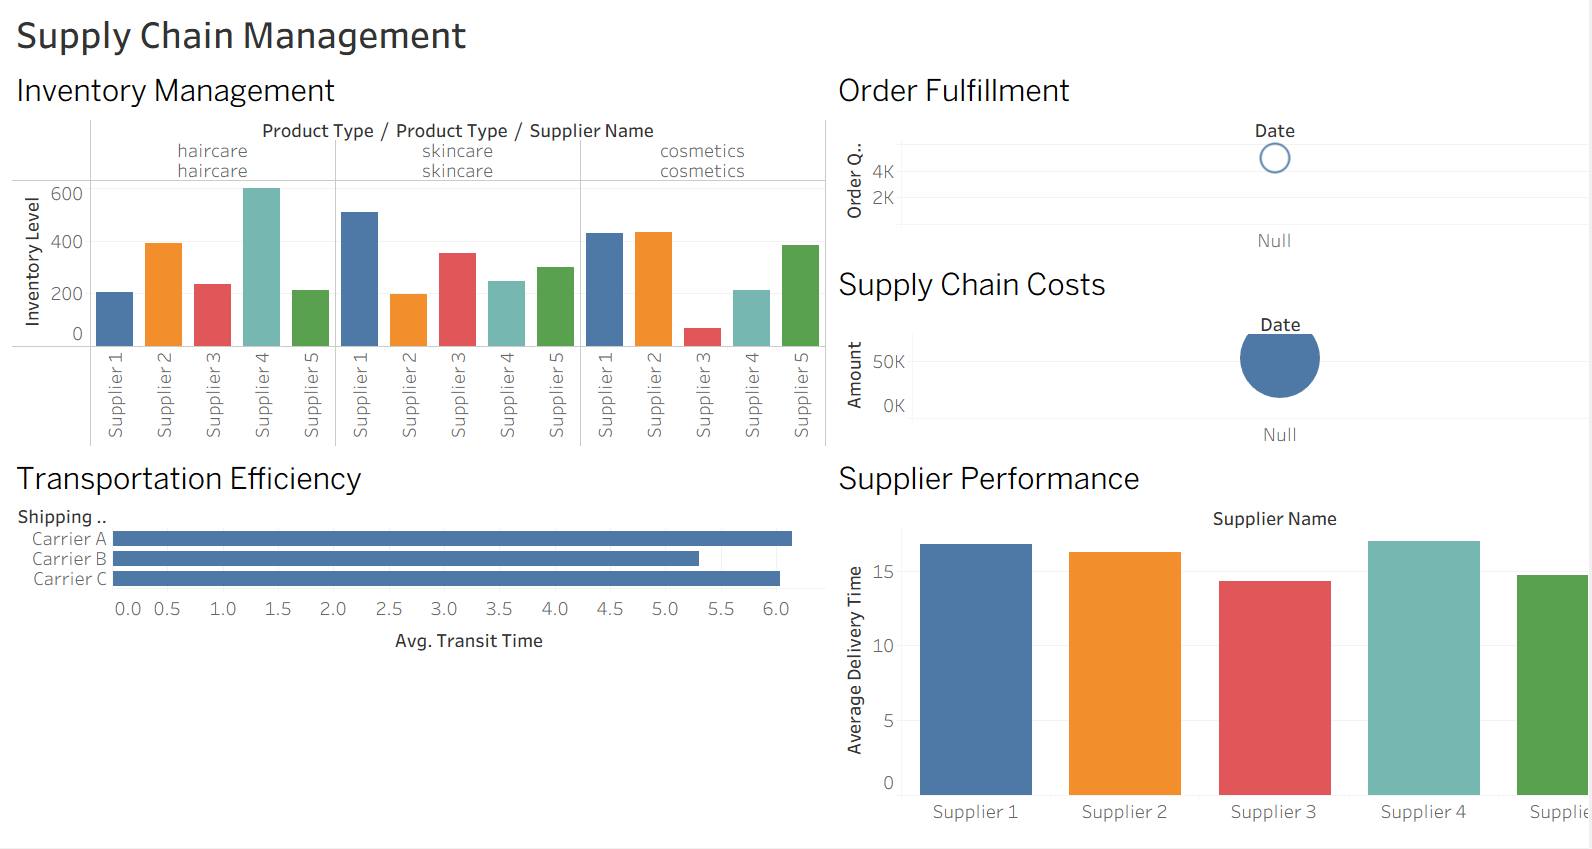

This screenshot's page, from the dashboard's own definition file:
{"tool":"tableau","page":{"name":"Dashboard 1","canvas":[1000,1000],"units":"permille","ordinal":0},"visuals":[{"type":"title","box":[4.4,9.4,991.2,68.2]},{"type":"worksheet","title":"Sheet 1","mark":"Automatic","rows":["inventory_level"],"cols":["product_type","product_type","supplier_name"],"box":[4.4,77.6,451.6,456.5]},{"type":"worksheet","title":"Sheet 2","mark":"Shape","rows":["order_quantity"],"cols":["date"],"box":[456,77.6,451.7,228.2]},{"type":"legend","title":"Sheet 1","param":"[federated.0qq6vhk0q7zgkh1fpmdu91v7paz2].[none:supplier_name:nk]","box":[907.7,77.6,87.9,187.1]},{"type":"legend","title":"Sheet 4","param":"[federated.0qq6vhk0q7zgkh1fpmdu91v7paz2].[none:delivery_status:nk]","box":[907.7,264.7,87.9,69.4]},{"type":"worksheet","title":"Sheet 5","mark":"Pie","rows":["amount"],"cols":["date"],"box":[456,305.9,451.7,228.2]},{"type":"legend","title":"Sheet 5","param":"[federated.0qq6vhk0q7zgkh1fpmdu91v7paz2].[none:cost_type:nk]","box":[907.7,334.1,87.9,69.4]},{"type":"worksheet","title":"Sheet 4","mark":"Bar","rows":["shipping_carriers"],"cols":["transit_time"],"box":[4.4,534.1,451.6,456.5]},{"type":"worksheet","title":"Sheet 3","mark":"Automatic","rows":["Calculation_1417226550415765509"],"cols":["supplier_name"],"box":[456,534.1,451.7,456.5]}]}

Visuals, with their boxes on the dashboard's canvas, which has no fixed pixel size, in thousandths of its width and height (x1, y1, x2, y2). These are canvas units, not pixel positions in the 1592x849 screenshot, which may show the page scaled, cropped or inside an application window:
title: left=4, top=9, right=996, bottom=78
"Sheet 1" worksheet: left=4, top=78, right=456, bottom=534
"Sheet 2" worksheet (Shape marks): left=456, top=78, right=908, bottom=306
"Sheet 1" legend: left=908, top=78, right=996, bottom=265
"Sheet 4" legend: left=908, top=265, right=996, bottom=334
"Sheet 5" worksheet (Pie marks): left=456, top=306, right=908, bottom=534
"Sheet 5" legend: left=908, top=334, right=996, bottom=404
"Sheet 4" worksheet (Bar marks): left=4, top=534, right=456, bottom=991
"Sheet 3" worksheet: left=456, top=534, right=908, bottom=991
